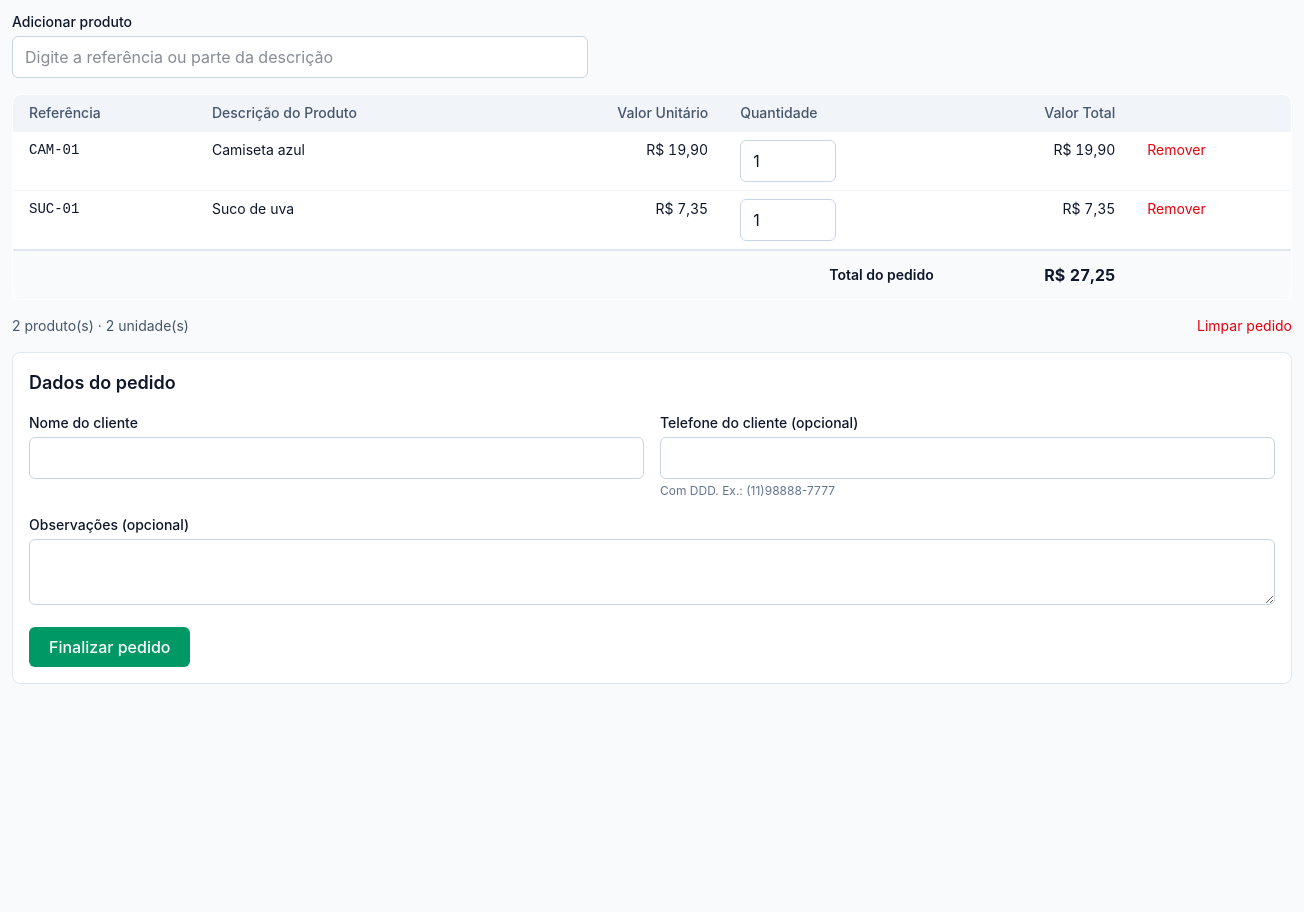
edição e cálculo automático › recalcula o total da linha e o total geral a cada mudança de quantidade
This screenshot has width=1304, height=912.
Replace the text in the field named "Quantidade de CAM-01" with "3" at coordinates (788, 161), box [740, 140, 836, 182]
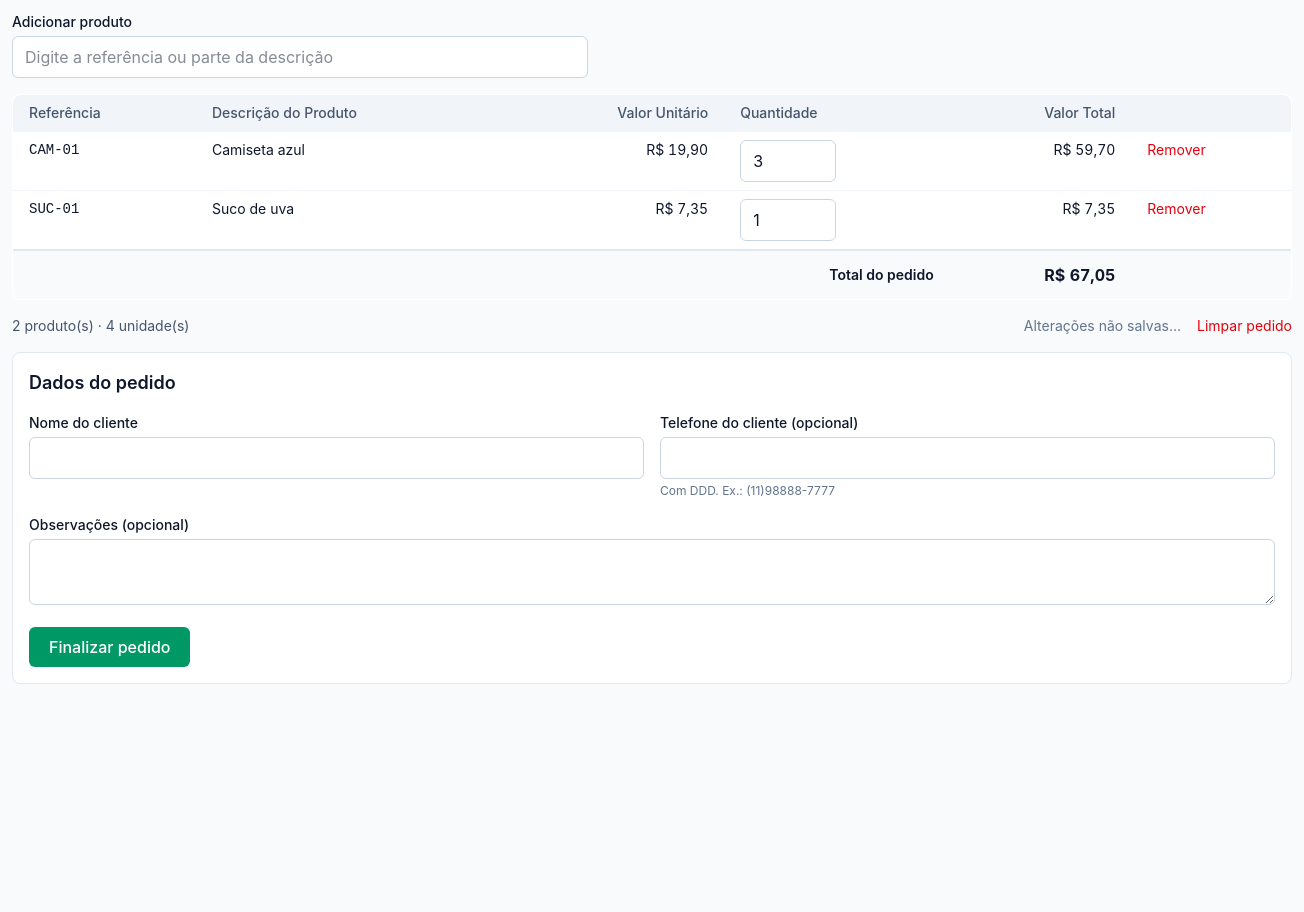
Expected: the cell with test id "line-total" reads "R$ 59,70", [1054, 141, 1115, 158]
Expected: the cell with test id "order-total" reads "R$ 67,05", [1044, 265, 1115, 285]
Replace the text in the field named "Quantidade de SUC-01" with "12" at coordinates (788, 220), box [740, 199, 836, 241]
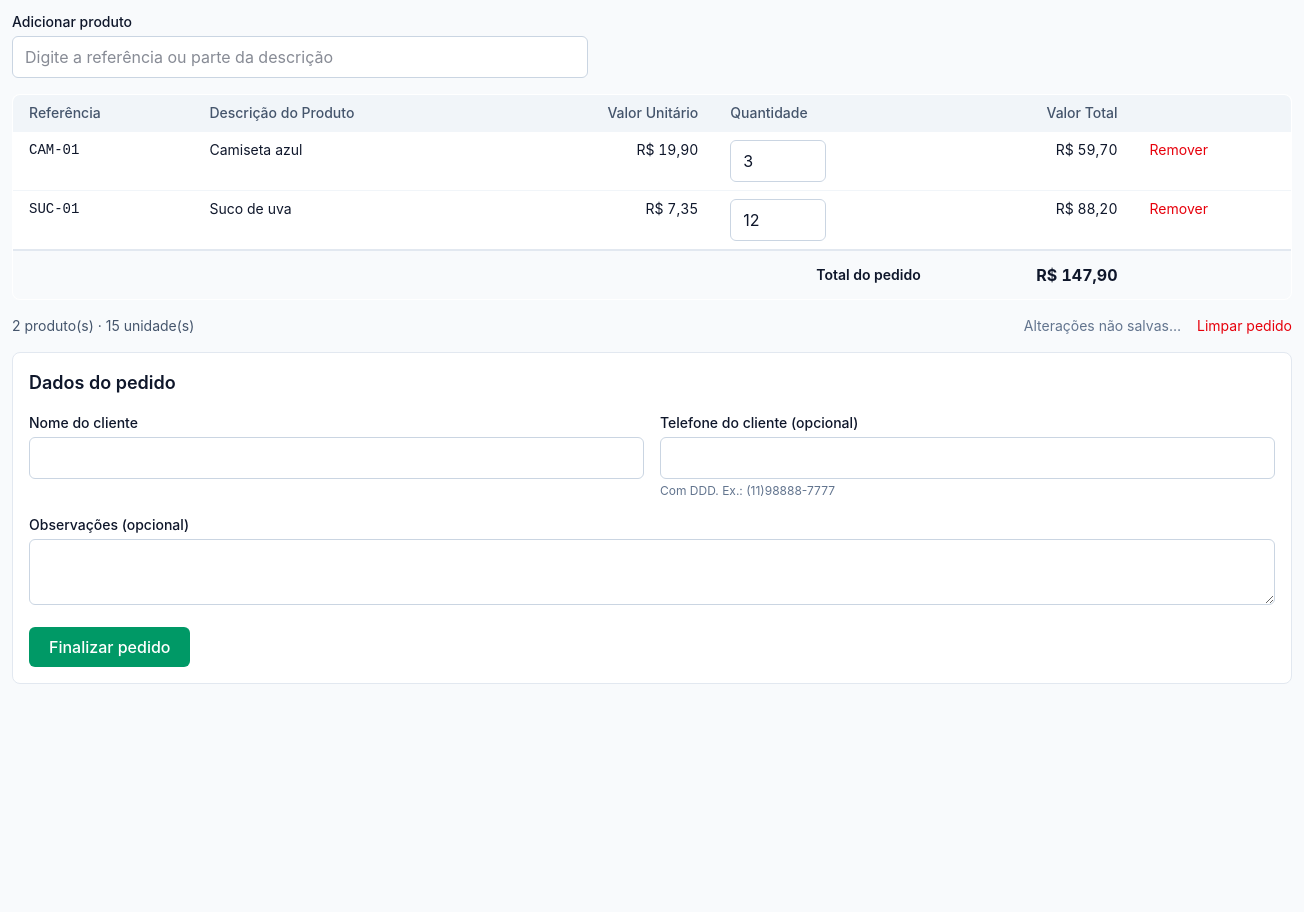
Expected: the cell with test id "line-total" reads "R$ 88,20", [1056, 200, 1118, 217]
Expected: the cell with test id "order-total" reads "R$ 147,90", [1036, 265, 1118, 285]
Expected: the text with test id "order-summary" reads "2 produto(s) · 15 unidade(s)", [12, 316, 194, 336]
